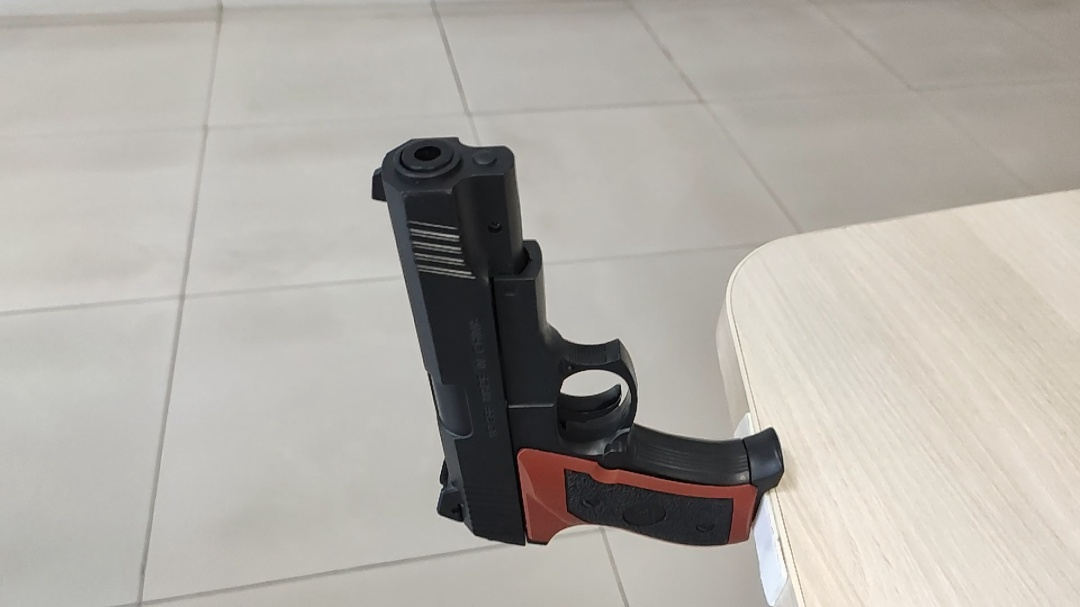gun: (367, 135, 786, 549)
